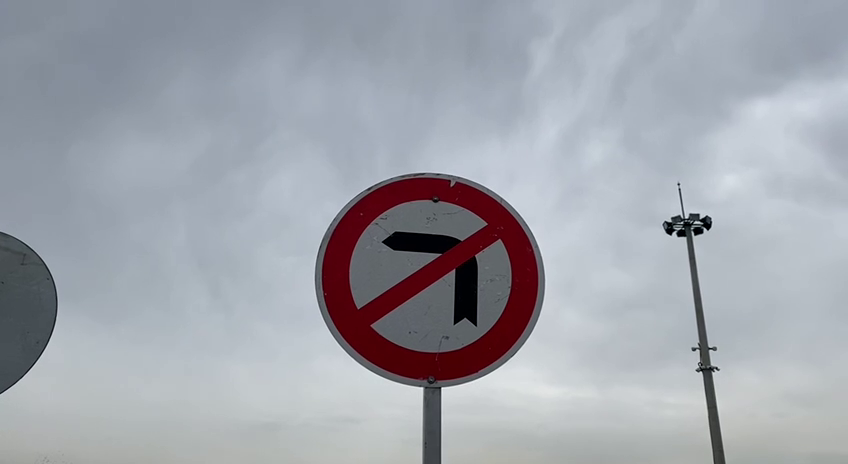noTurnLeft: (312, 168, 547, 390)
